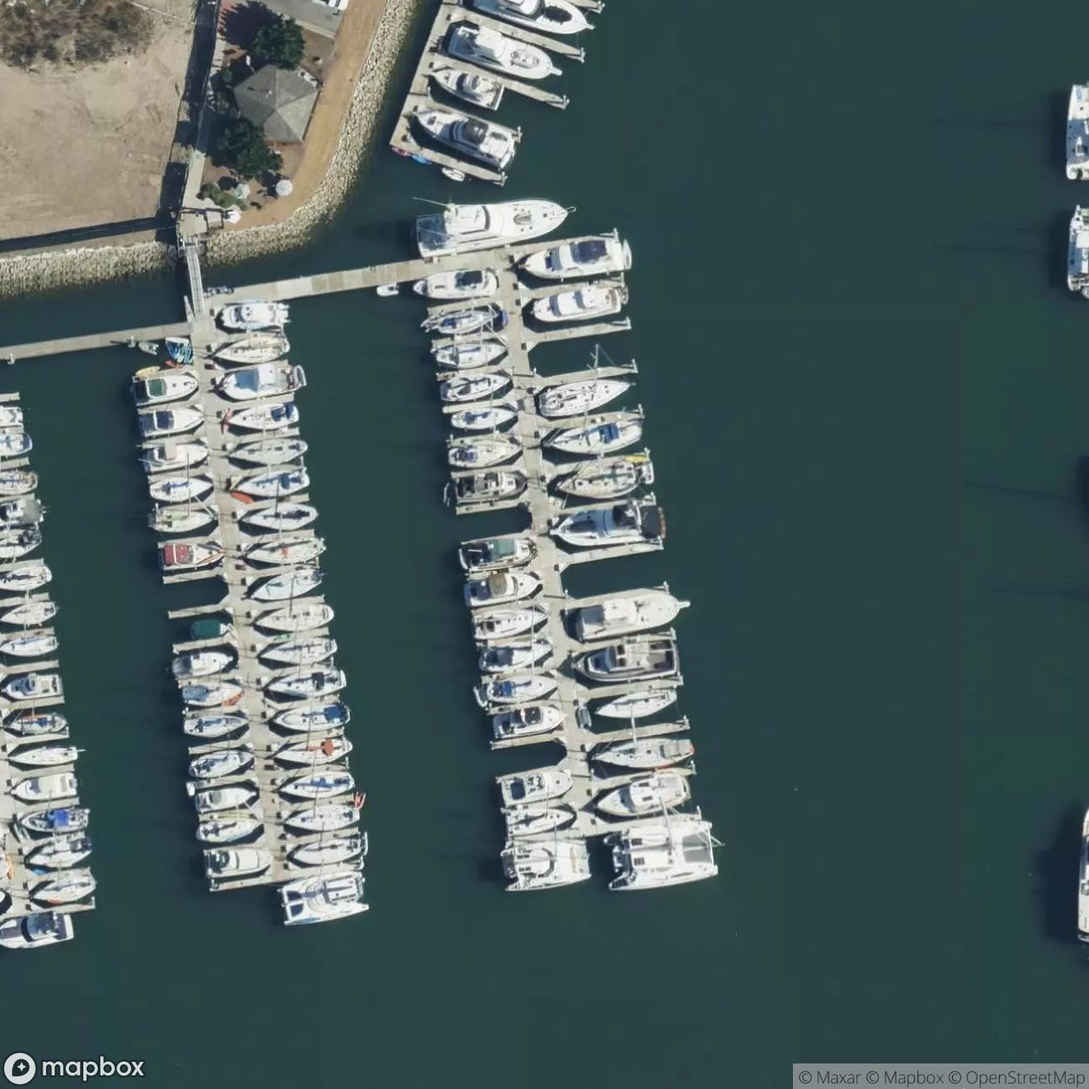Ship: (391, 229, 764, 897), (110, 281, 386, 933)
